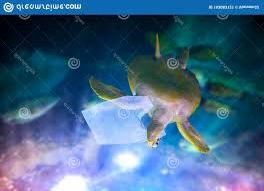Trash: (72, 80, 154, 156)
